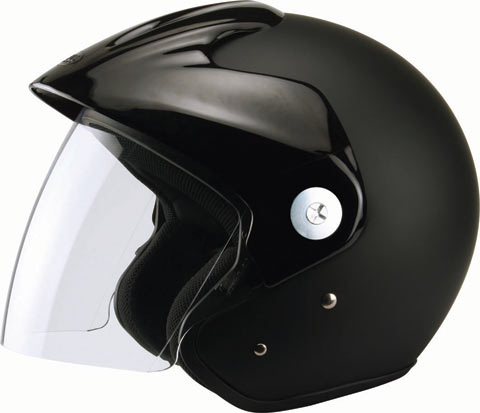helmet: (38, 8, 472, 379)
